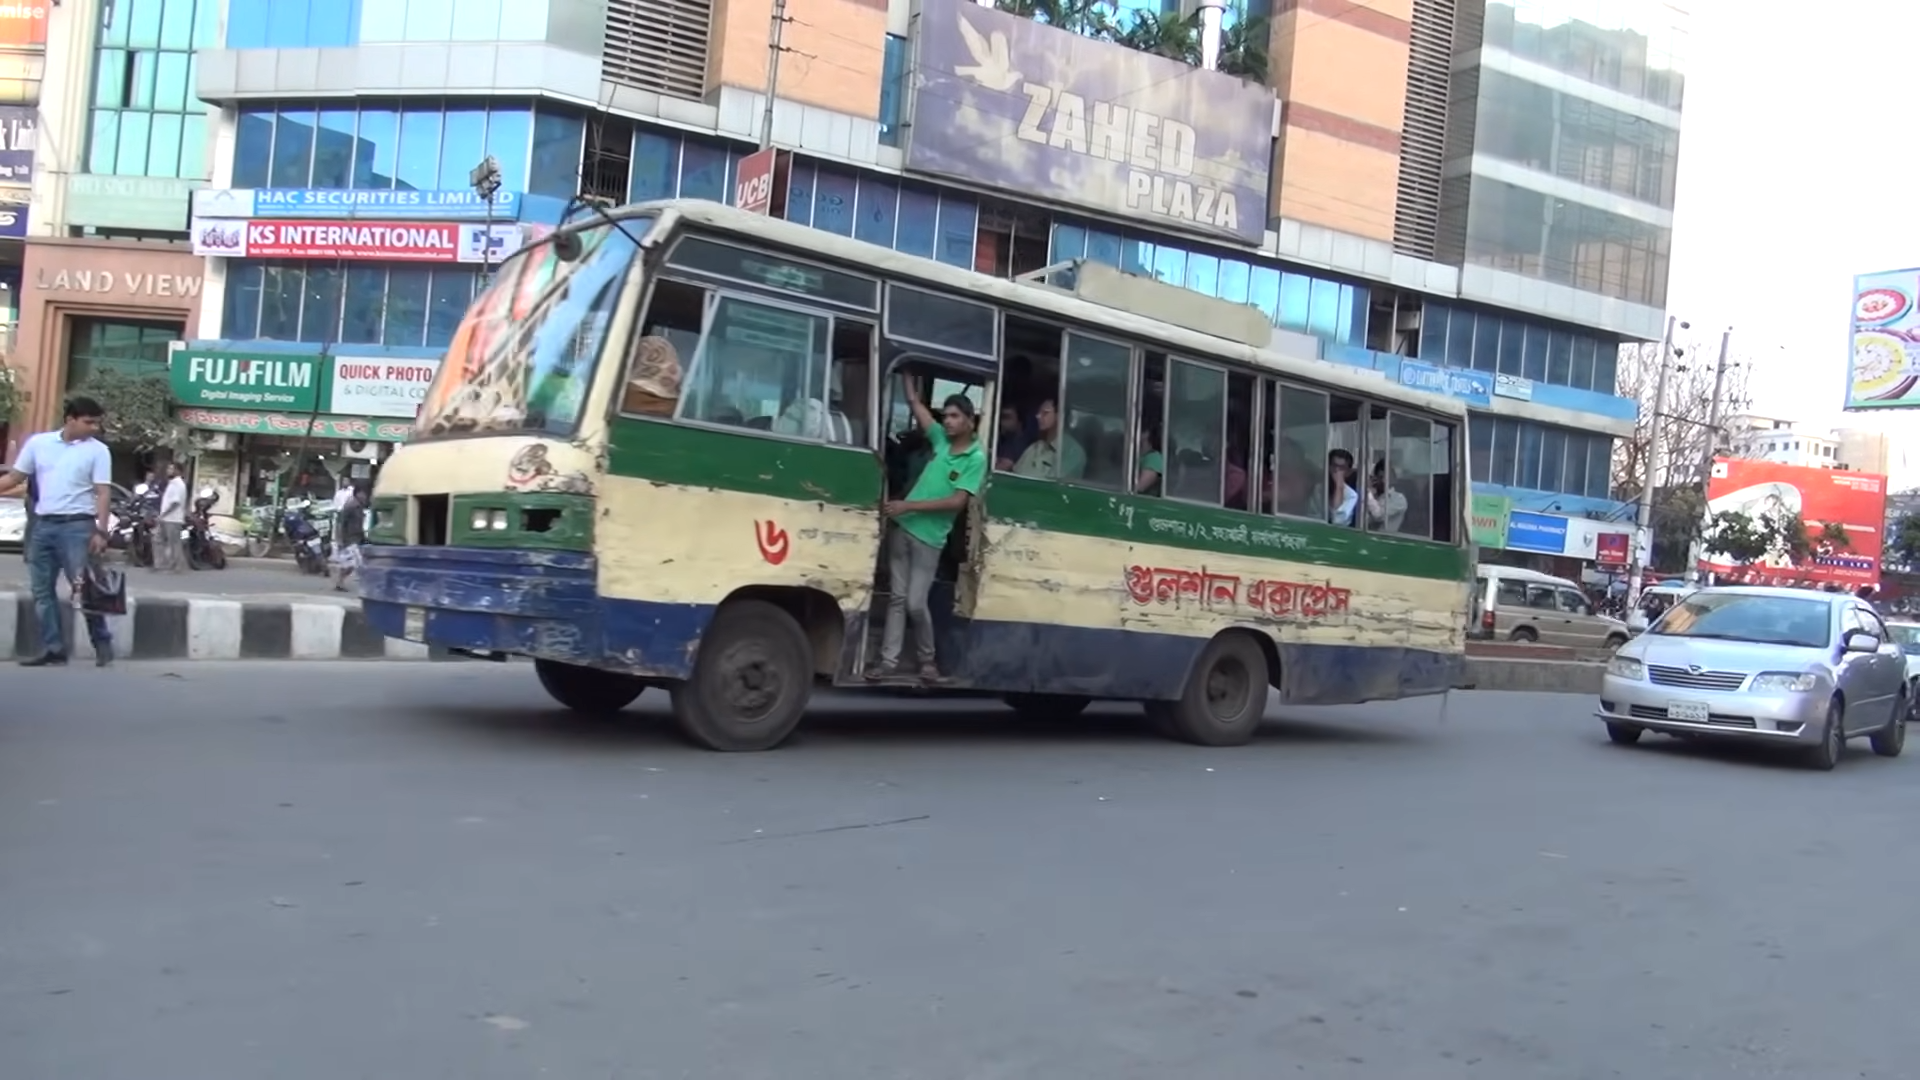Bus: (340, 189, 1518, 749)
Car: (1586, 579, 1912, 767)
